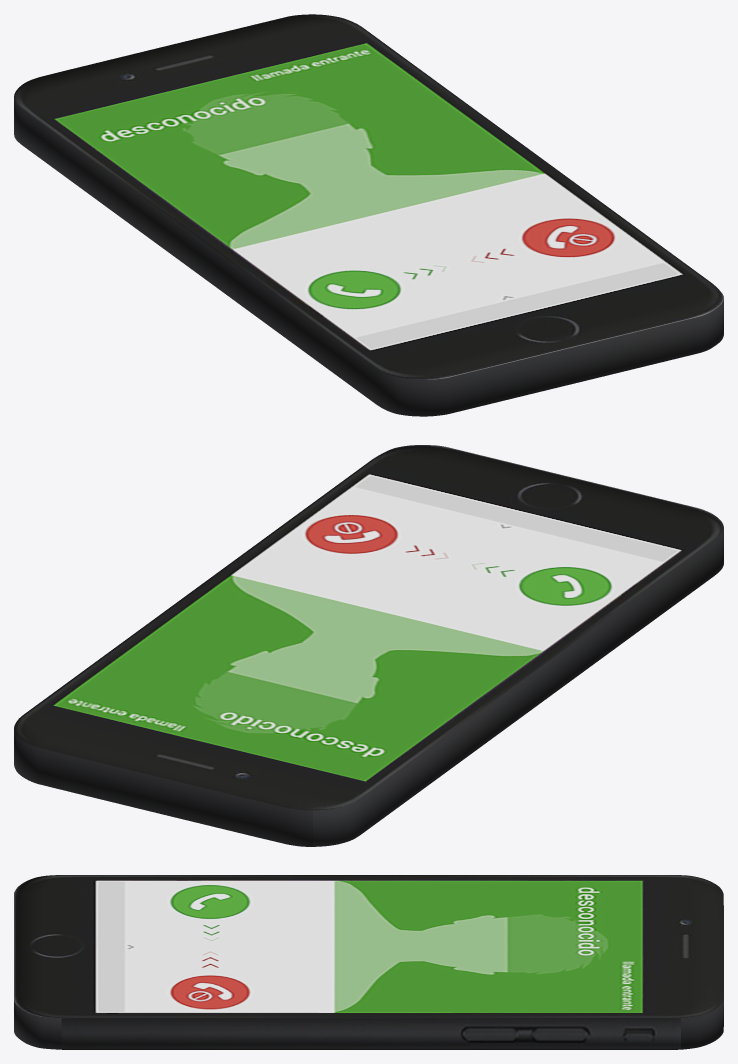
Rendered from Phone.FBX.
3 renders of one model, top to bottom at view 1: azimuth 30°, elevation 25°; view 2: azimuth 150°, elevation 25°; view 3: azimuth 270°, elevation 25°, orthographic. The views are drawn at different scales.
Parts seen in each view (by area): view 1: Phone; view 2: Phone; view 3: Phone.
Boxes of the visible parts, x1=… form: Phone: x1=14, y1=14, x2=723, y2=416; Phone: x1=14, y1=445, x2=723, y2=846; Phone: x1=14, y1=875, x2=723, y2=1049.
Bounding box in the file's own units: 7.14 × 0.741 × 14.96.
Materials: 1 (1 with a texture image).
